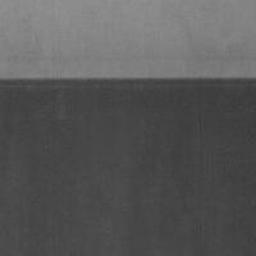Welding line: (0, 76, 256, 84)
